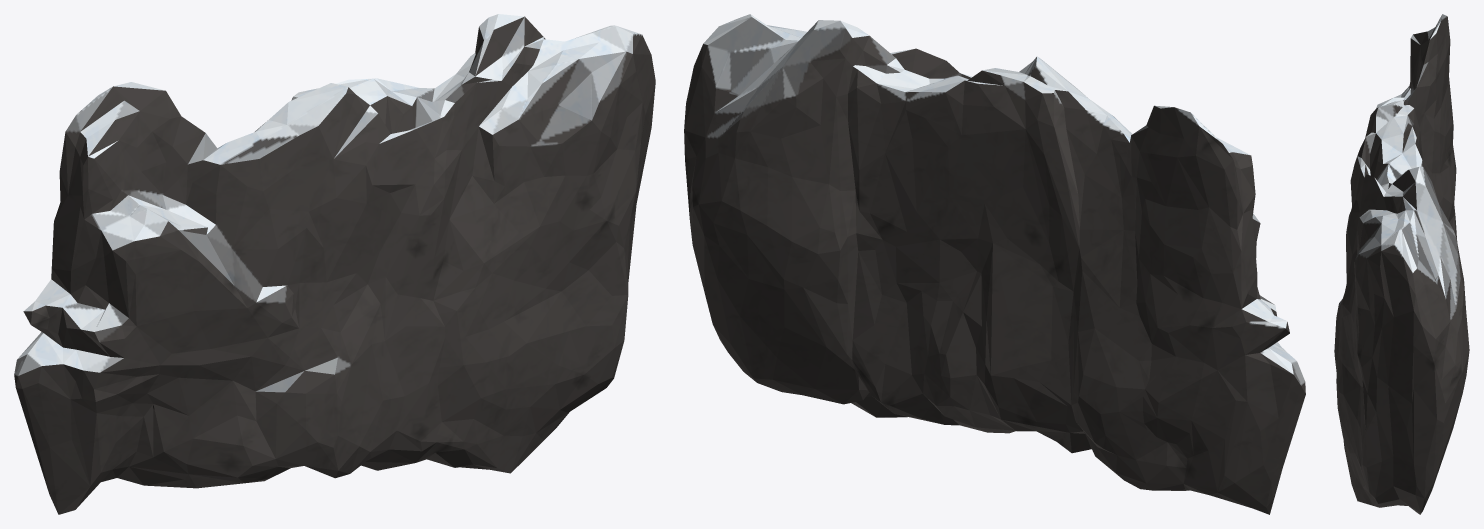
Rendered from pass_wall_e.gltf.
3 views of the same model, side by side, from view 1: azimuth 30°, elevation 25°; view 2: azimuth 150°, elevation 25°; view 3: azimuth 270°, elevation 25° (orthographic). The views are drawn at different scales.
Visible parts, largest first — view 1: pass_wall_e; view 2: pass_wall_e; view 3: pass_wall_e.
Boxes of the visible parts, x1,y1,x2,y2 form: pass_wall_e: (14, 14, 655, 514); pass_wall_e: (684, 14, 1305, 514); pass_wall_e: (1334, 14, 1469, 514).
Bounding box in the file's own units: 10.93 × 7.15 × 2.49.
Materials: 1 (1 with a texture image).
